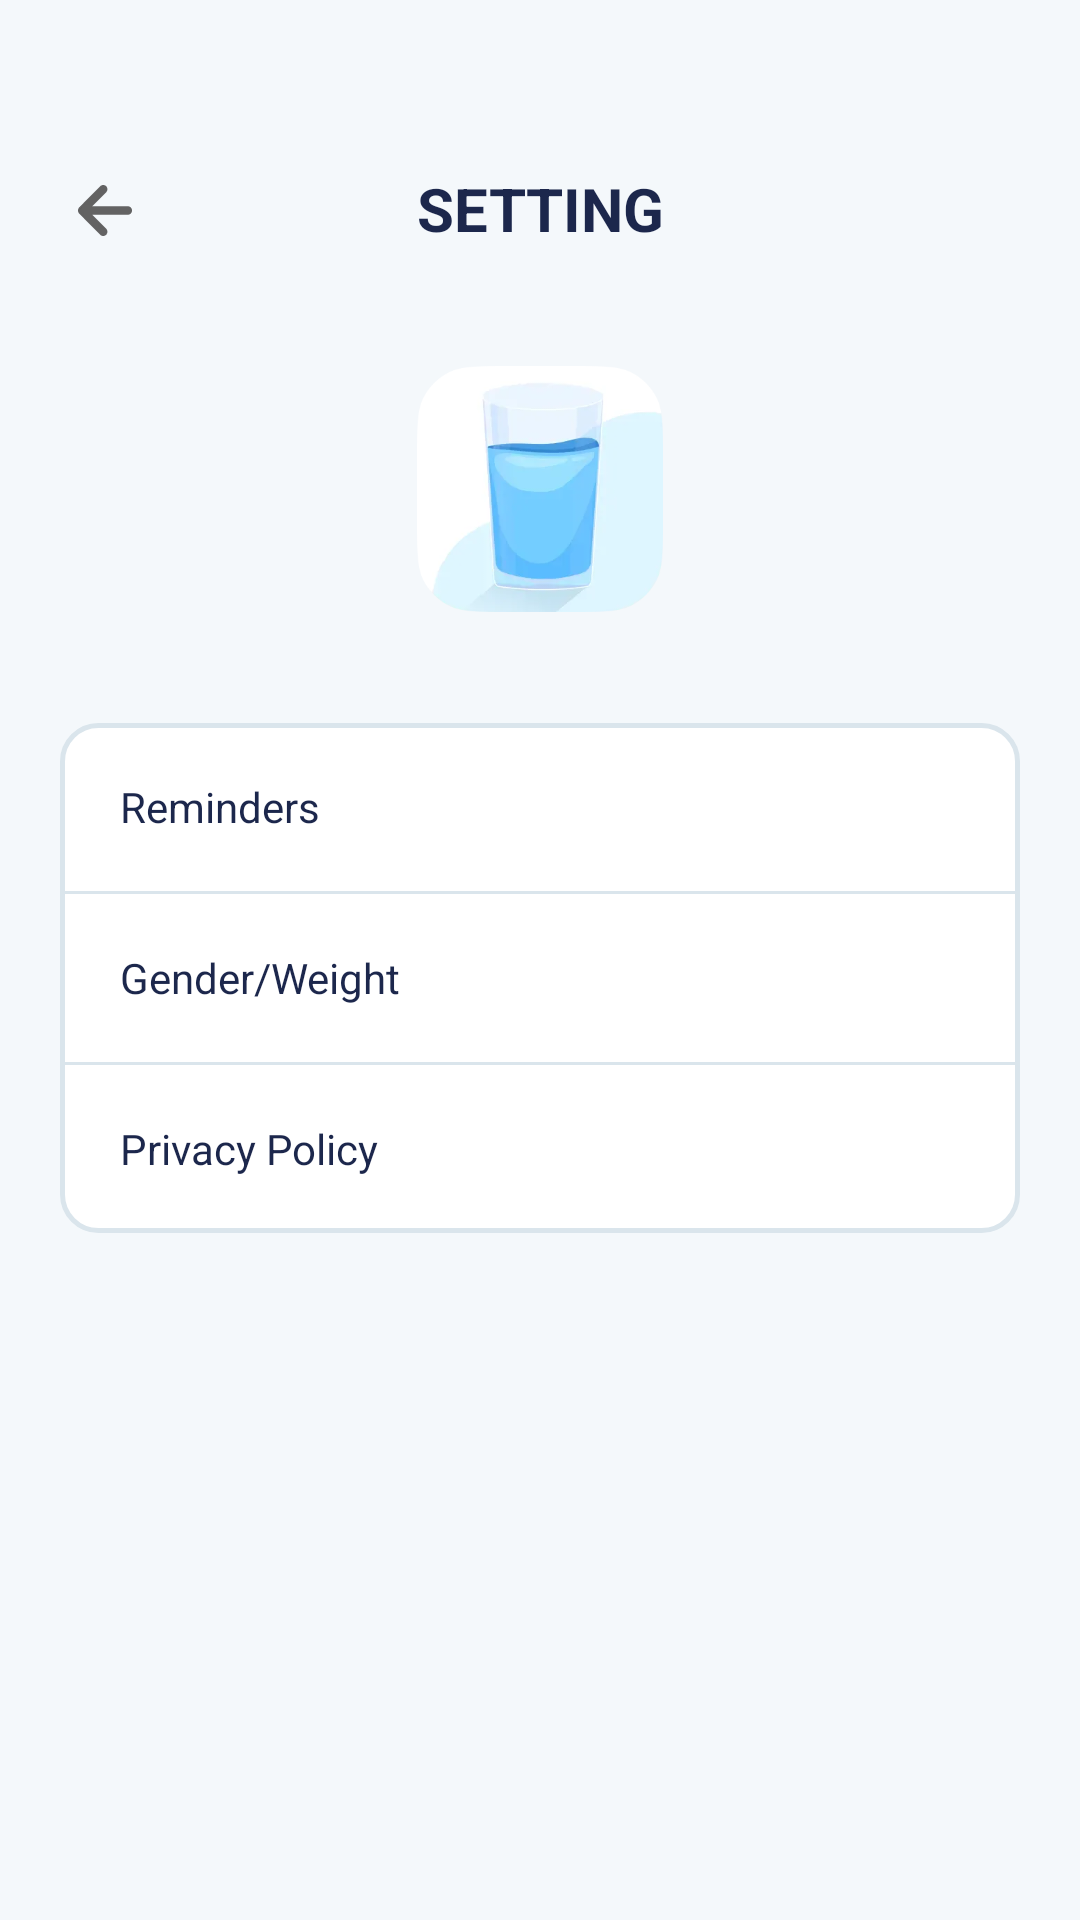

Locate icon controls on the screen. Image size 1080×1920, boxes as (x1, y1, x2, y2).
back: (78, 185, 132, 236)
